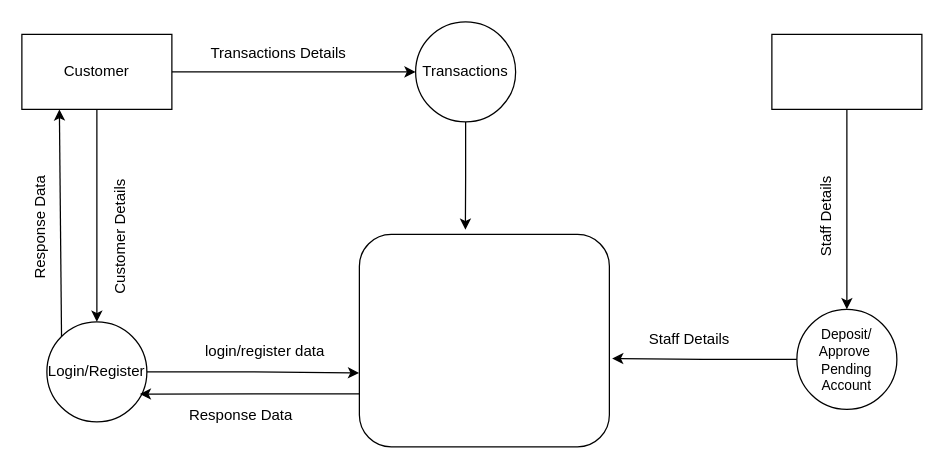
Some shapes in this 944 by 469 pixel diagram are drawn without their labels. The centre of each missing label's shape, as x and y in pixels:
Basic Banking Prototype: the point at 483,340
Staff: the point at 846,71
